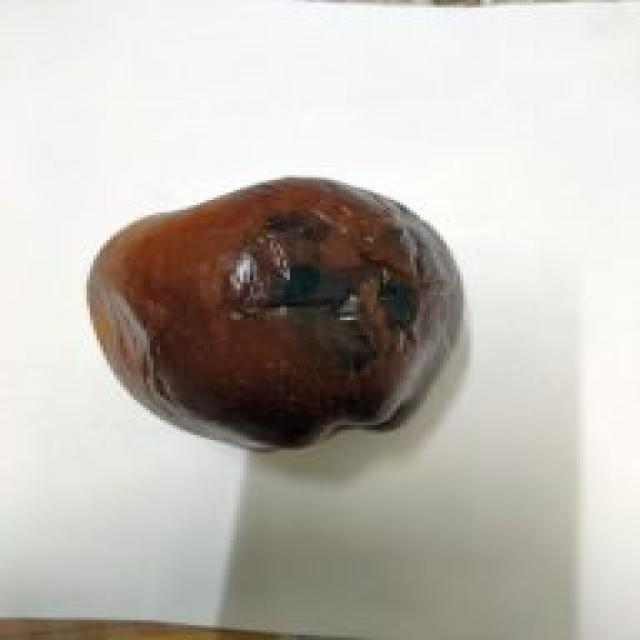Bad_Apple: (88, 179, 462, 449)
